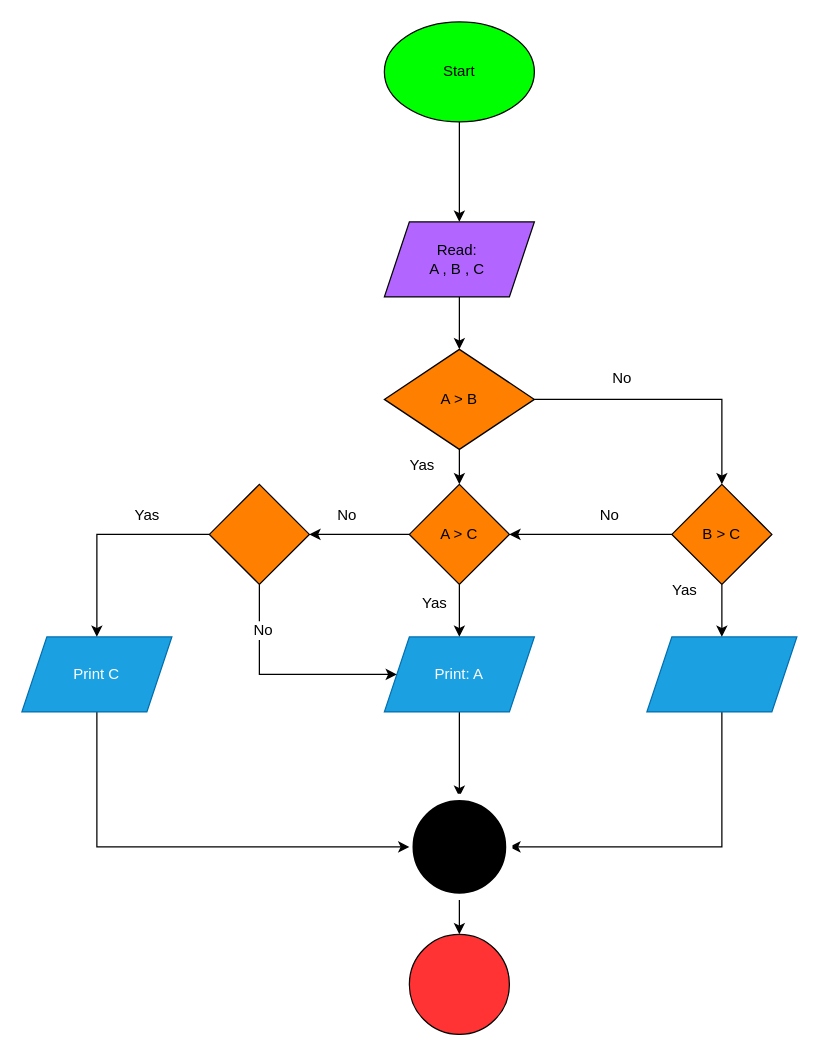
This 819x1056 diagram has some shape labels left out. Here are the shapes that lost their labels. From the top down, the centre of each, then its label:
the point at 258,533: C > A
the point at 721,674: Print B
the point at 458,983: End
